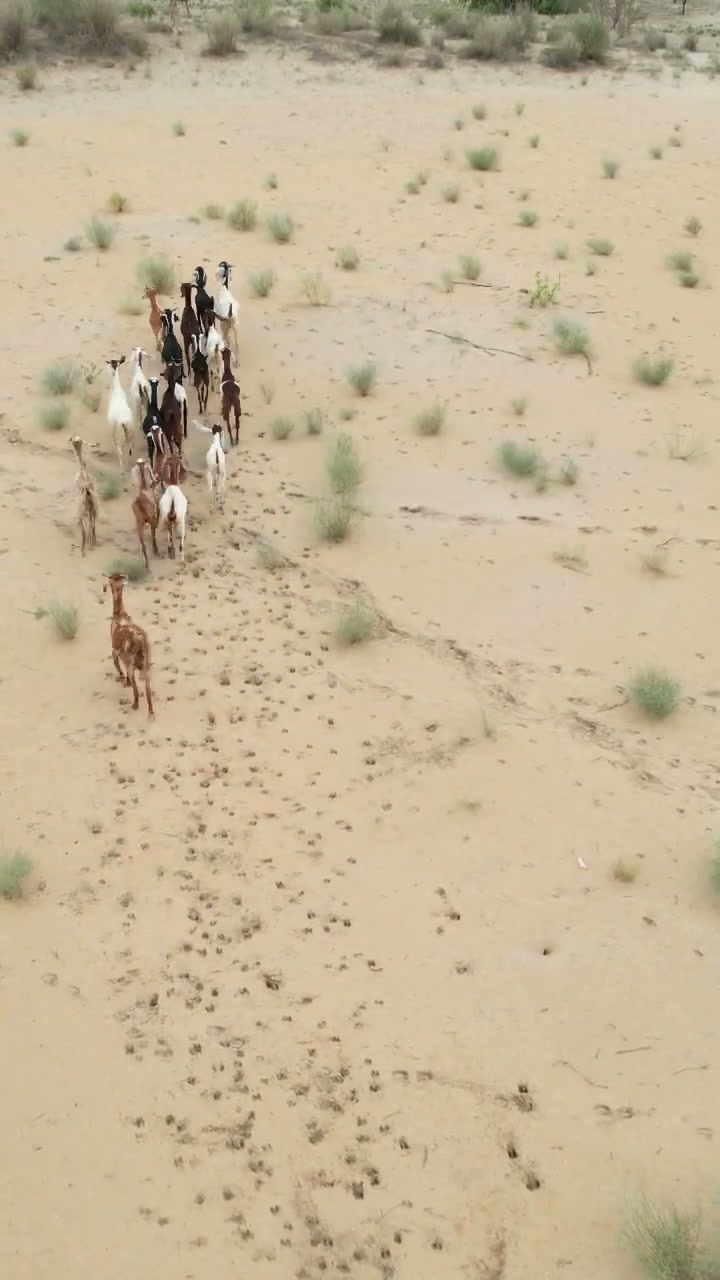animal_foot_print: (118, 549, 442, 1277)
